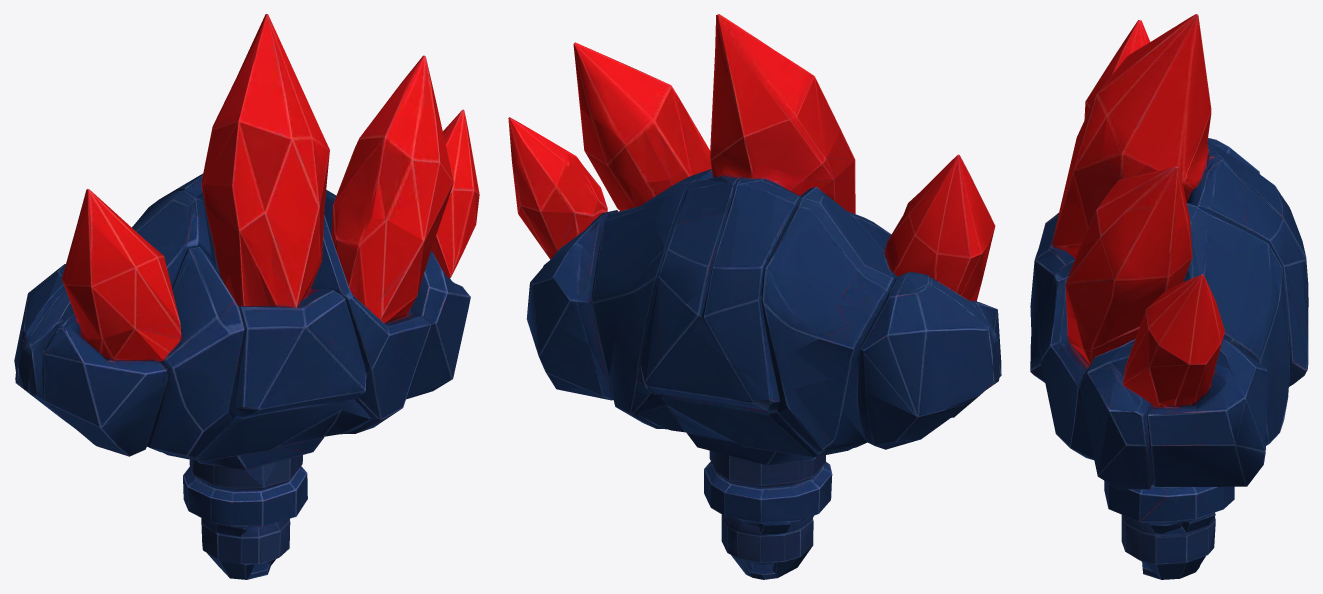
The model's file is 9e351b23-1dac-48f6-818b-fbdb301adc41_part_52_optimized.glb.
3 views of the same model, side by side, from view 1: azimuth 30°, elevation 25°; view 2: azimuth 150°, elevation 25°; view 3: azimuth 270°, elevation 25° (orthographic). The views are drawn at different scales.
Parts seen in each view (by area): view 1: output_unwrapped; view 2: output_unwrapped; view 3: output_unwrapped.
Part boxes in pixels (x1,y1,x2,y2): output_unwrapped: (14, 14, 479, 579); output_unwrapped: (508, 14, 1001, 579); output_unwrapped: (1030, 14, 1308, 579).
Bounding box in the file's own units: 1.7 × 1.9 × 0.8383.
Materials: 1 (1 with a texture image).
